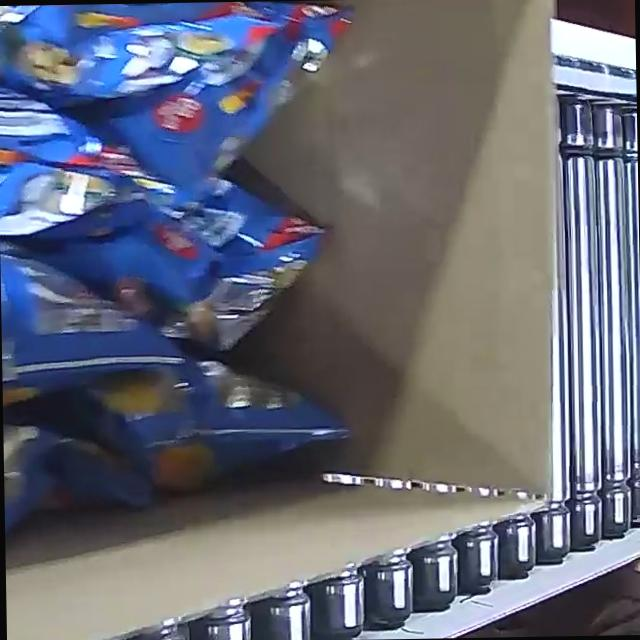paprika: (0, 0, 365, 573)
